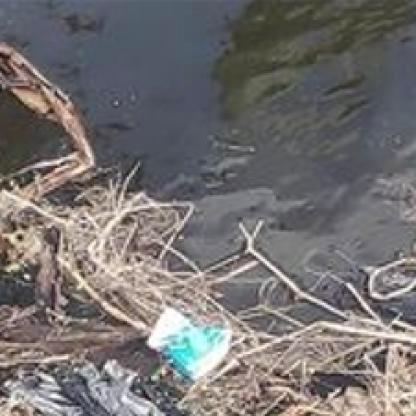Trash: (143, 303, 235, 385)
